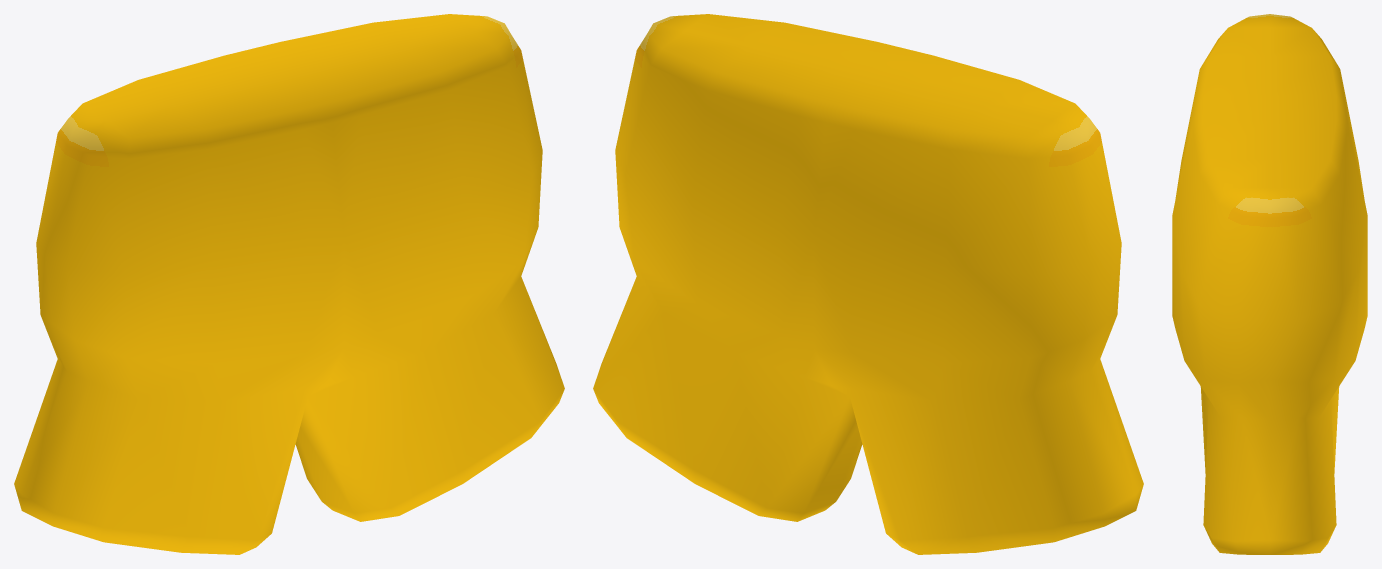
File: ps2_save-icons_eyetoymonkeymania-profile.glb
3 renders of one model, left to right at view 1: azimuth 30°, elevation 25°; view 2: azimuth 150°, elevation 25°; view 3: azimuth 270°, elevation 25°, orthographic. The views are drawn at different scales.
Visible parts, largest first — view 1: profile.ico; view 2: profile.ico; view 3: profile.ico.
Part boxes in pixels (x1,y1,x2,y2): profile.ico: (14, 14, 564, 554); profile.ico: (593, 14, 1143, 554); profile.ico: (1172, 14, 1367, 554).
Size of the model in its own units: 3.16 by 2.51 by 1.12.
Materials: 1 (1 with a texture image).
